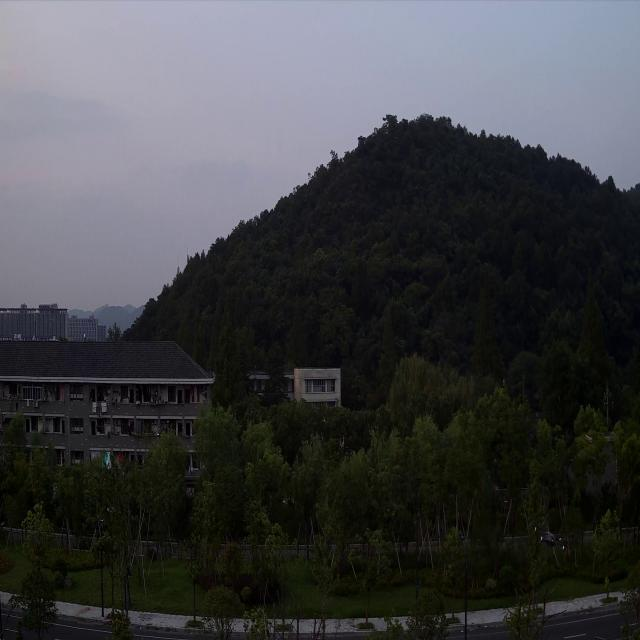drone: (537, 525, 568, 550)
